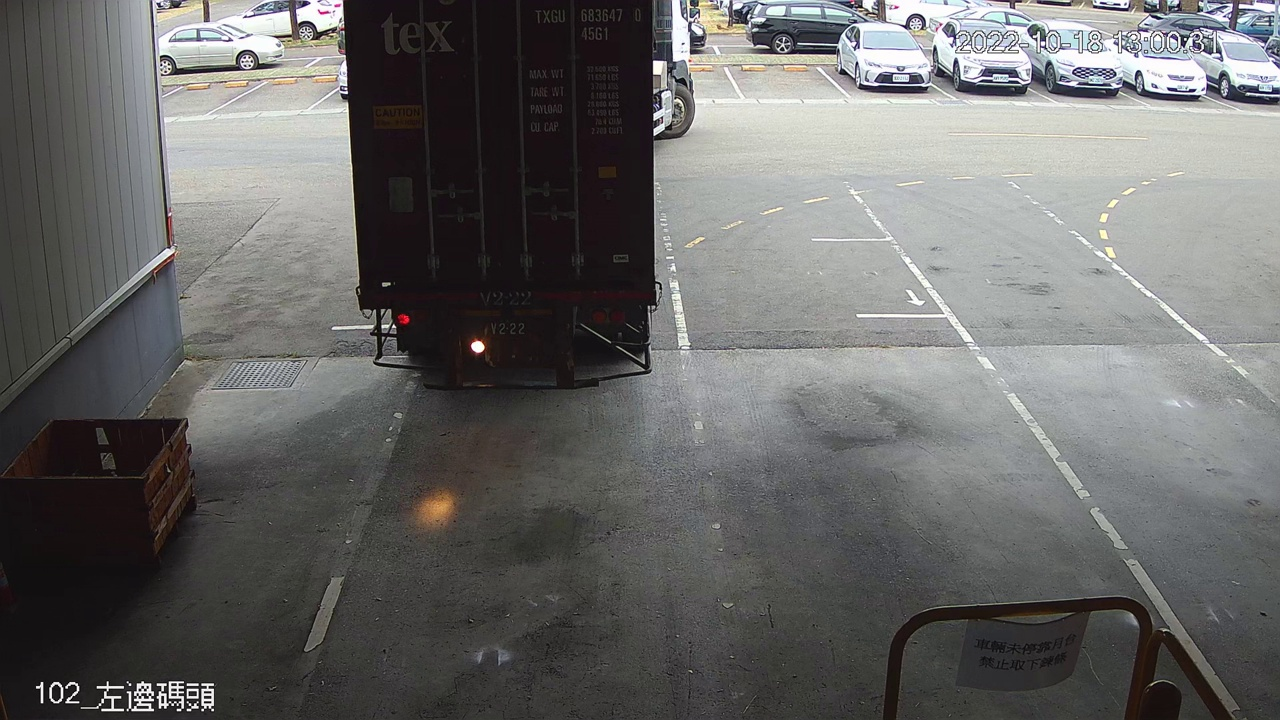container: (529, 1, 647, 46)
